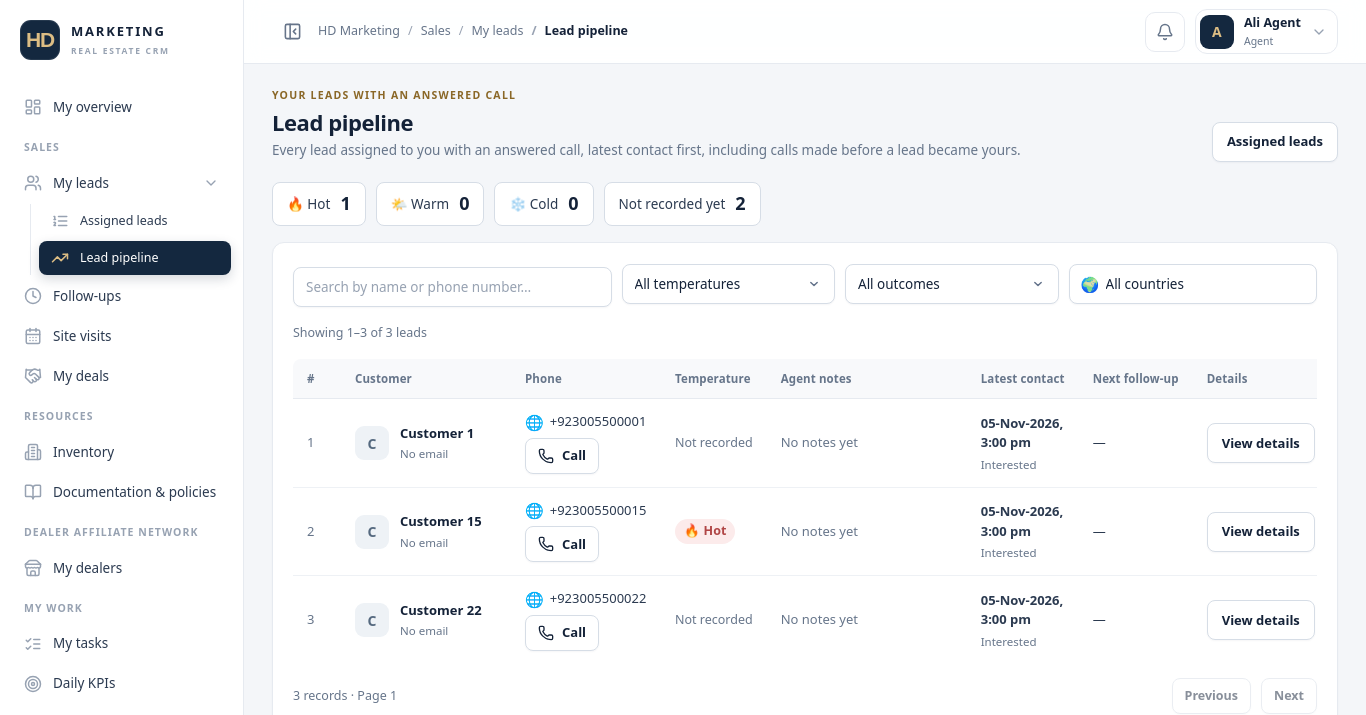
Test: the agent's My leads menu › opens and closes My leads, with Assigned leads and Lead pipeline under it
Click the button "My leads" at {"x": 122, "y": 183}, box x1=12 y1=164 x2=231 y2=202
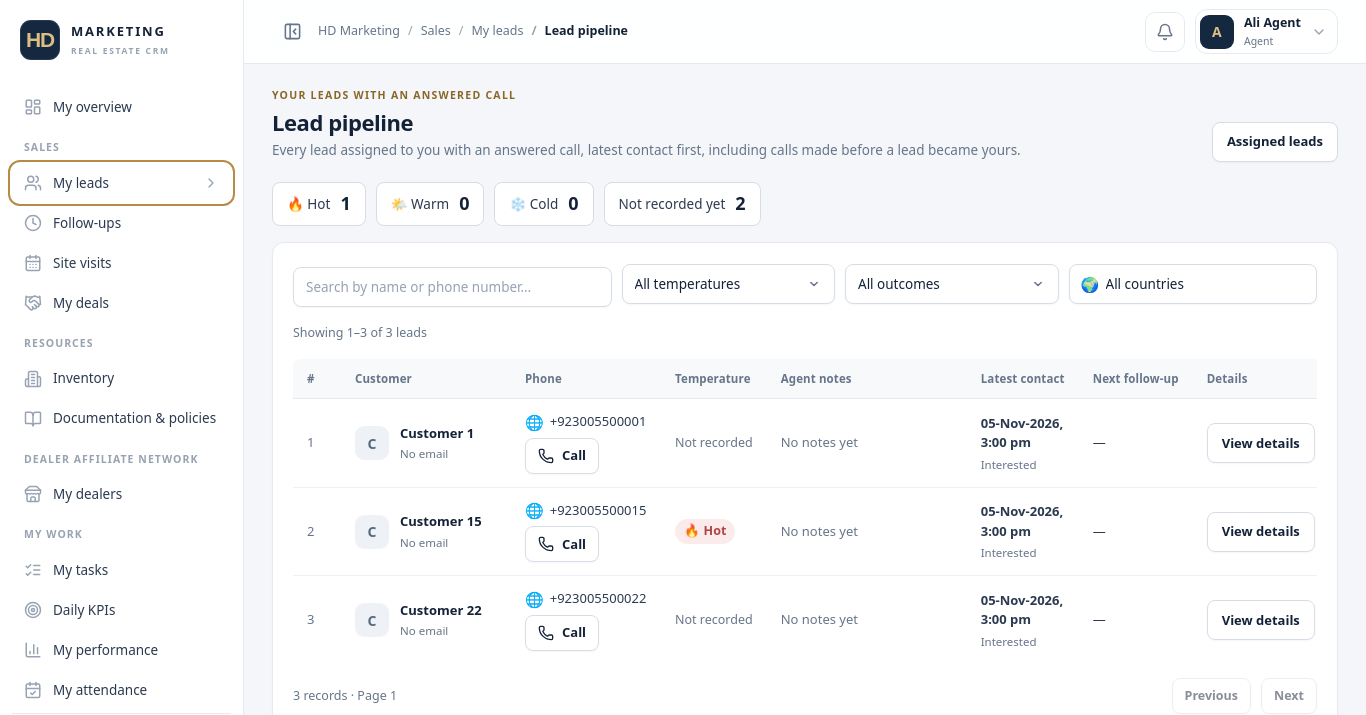
Now the button "My leads" is collapsed
Click the button "My leads" at {"x": 122, "y": 183}, box x1=12 y1=164 x2=231 y2=202
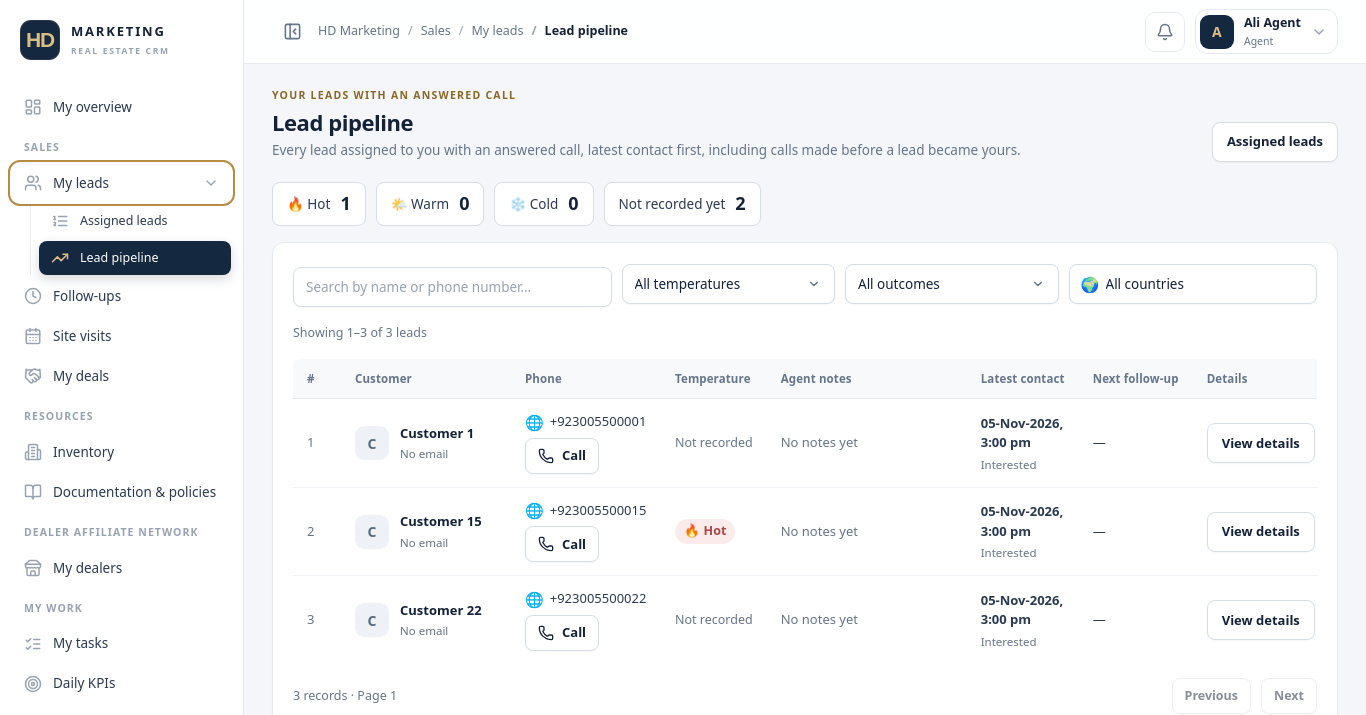
Now the link "Assigned leads" below "My overview" is shown, box x1=51 y1=212 x2=168 y2=230
